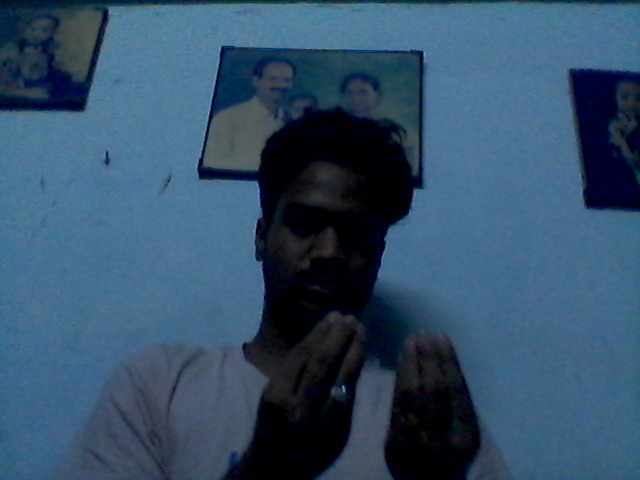Sorry: (249, 307, 495, 480)
